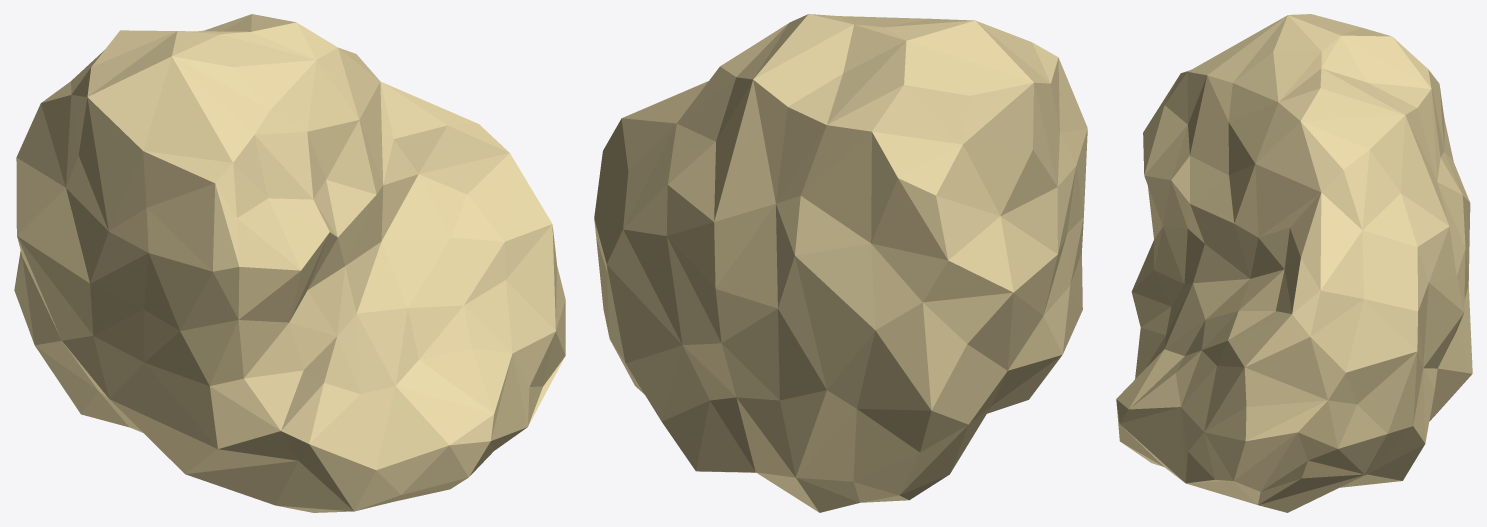
File: Asteroid (92).fbx
3 views of the same model, side by side, from view 1: azimuth 30°, elevation 25°; view 2: azimuth 150°, elevation 25°; view 3: azimuth 270°, elevation 25° (orthographic). The views are drawn at different scales.
Parts seen in each view (by area): view 1: Asteroid166; view 2: Asteroid166; view 3: Asteroid166.
Boxes of the visible parts, box(x1,y1,x2,y2) form: Asteroid166: box(14, 14, 565, 512); Asteroid166: box(594, 14, 1087, 512); Asteroid166: box(1116, 14, 1472, 512).
Bounding box in the file's own units: 375 × 357 × 289.
